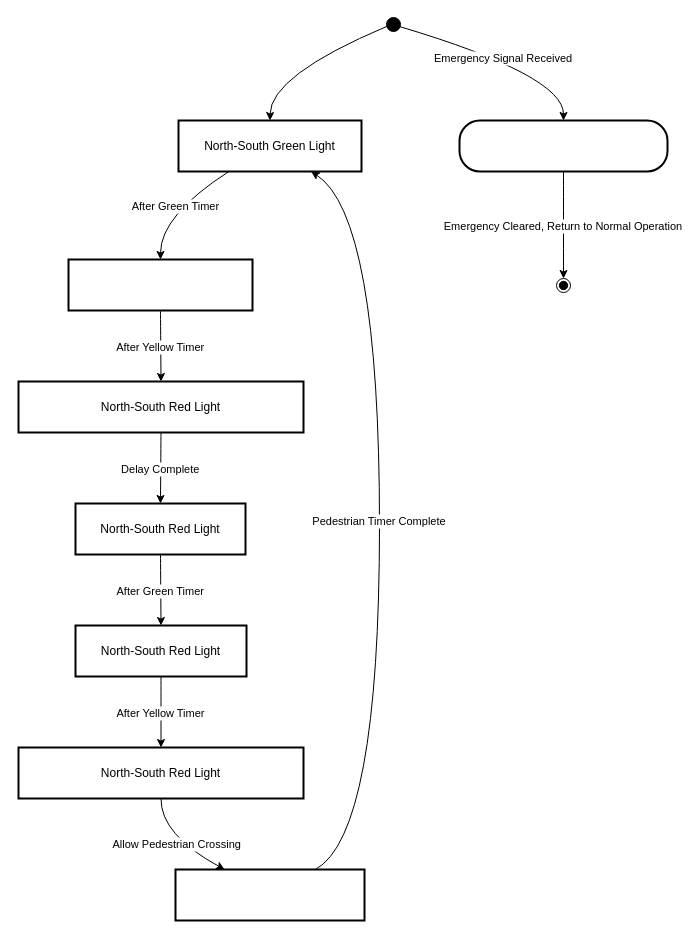
The diagram is 700 pixels wide and 939 high, and some of its shapes have lost their labels. The centre of each missing label's shape, as x and y in pixels:
"All Directions Flashing Red Light" belongs at point 563,145.
"All Directions Red Light" belongs at point 269,894.
"North-South Yellow Light" belongs at point 160,284.
